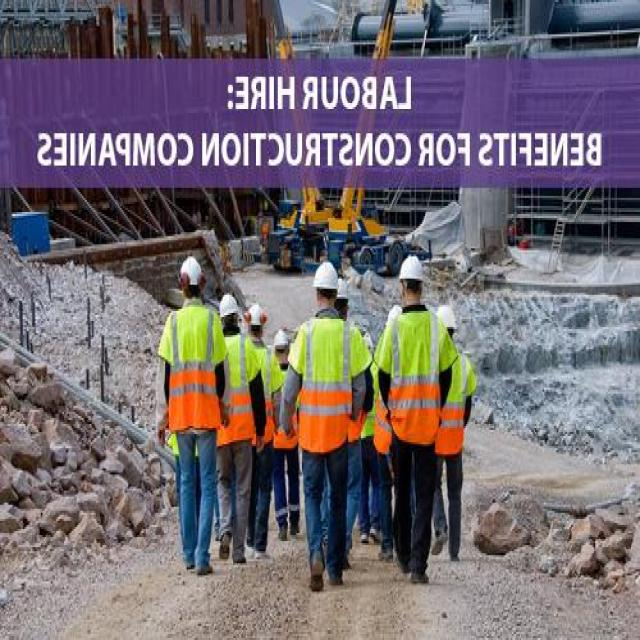Reflective-Jacket: (297, 313, 353, 448), (389, 305, 439, 442), (168, 301, 220, 432), (224, 333, 255, 440)
Safety-Helmet: (312, 258, 340, 291), (178, 254, 205, 287), (398, 252, 426, 283), (219, 291, 238, 317)
